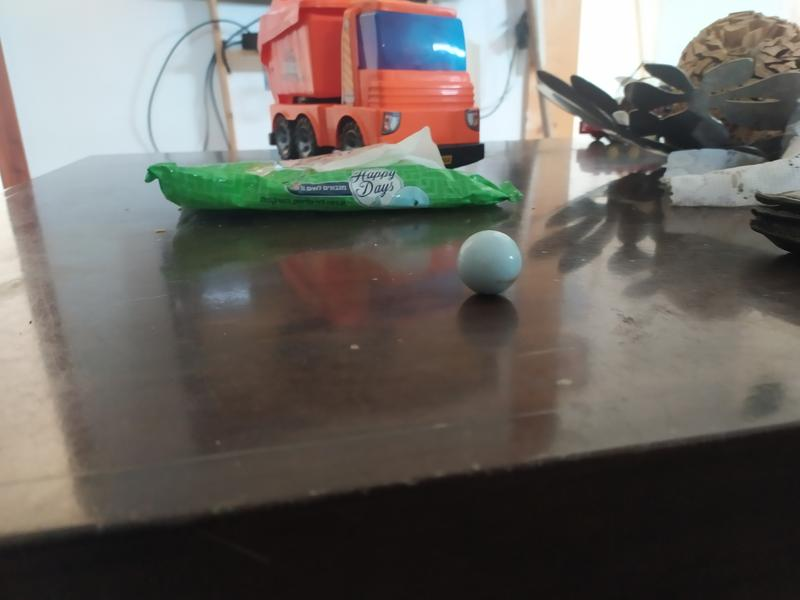Warning: (453, 227, 524, 299)
